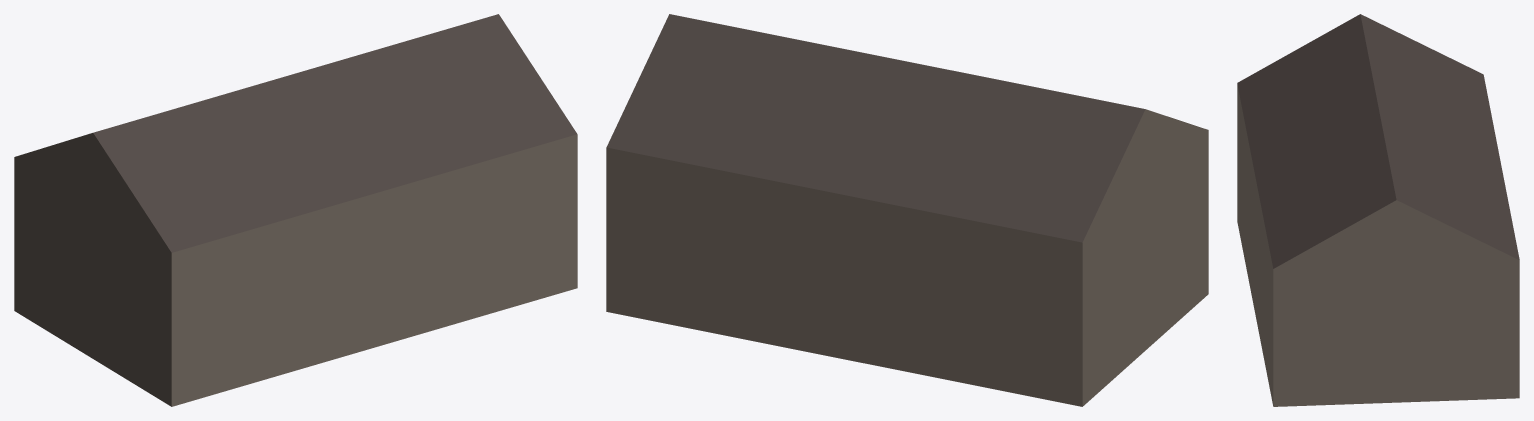
3 views of the same model, side by side, from view 1: azimuth 30°, elevation 25°; view 2: azimuth 150°, elevation 25°; view 3: azimuth 270°, elevation 25° (orthographic). The views are drawn at different scales.
Visible parts, largest first — view 1: HP-w1366792084; view 2: HP-w1366792084; view 3: HP-w1366792084.
Boxes of the visible parts, x1,y1,x2,y2 form: HP-w1366792084: (14, 14, 577, 406); HP-w1366792084: (606, 14, 1208, 406); HP-w1366792084: (1237, 14, 1519, 406).
Bounding box in the file's own units: 27.25 × 13.22 × 16.72.
